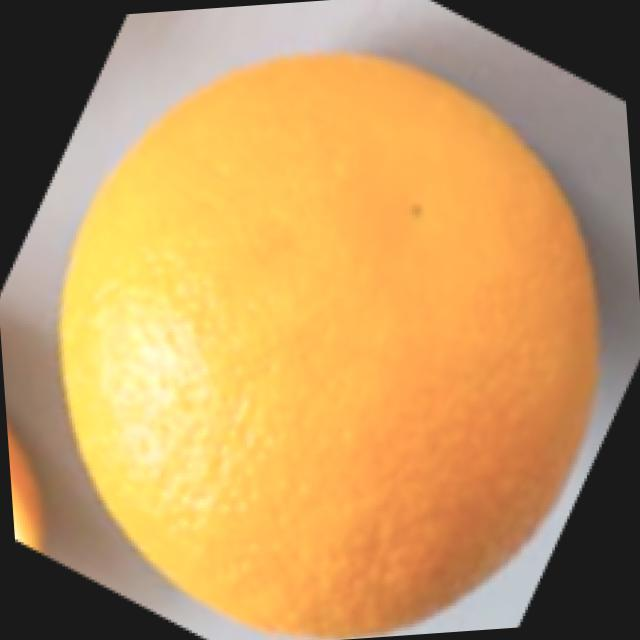orange: (25, 1, 624, 640)
